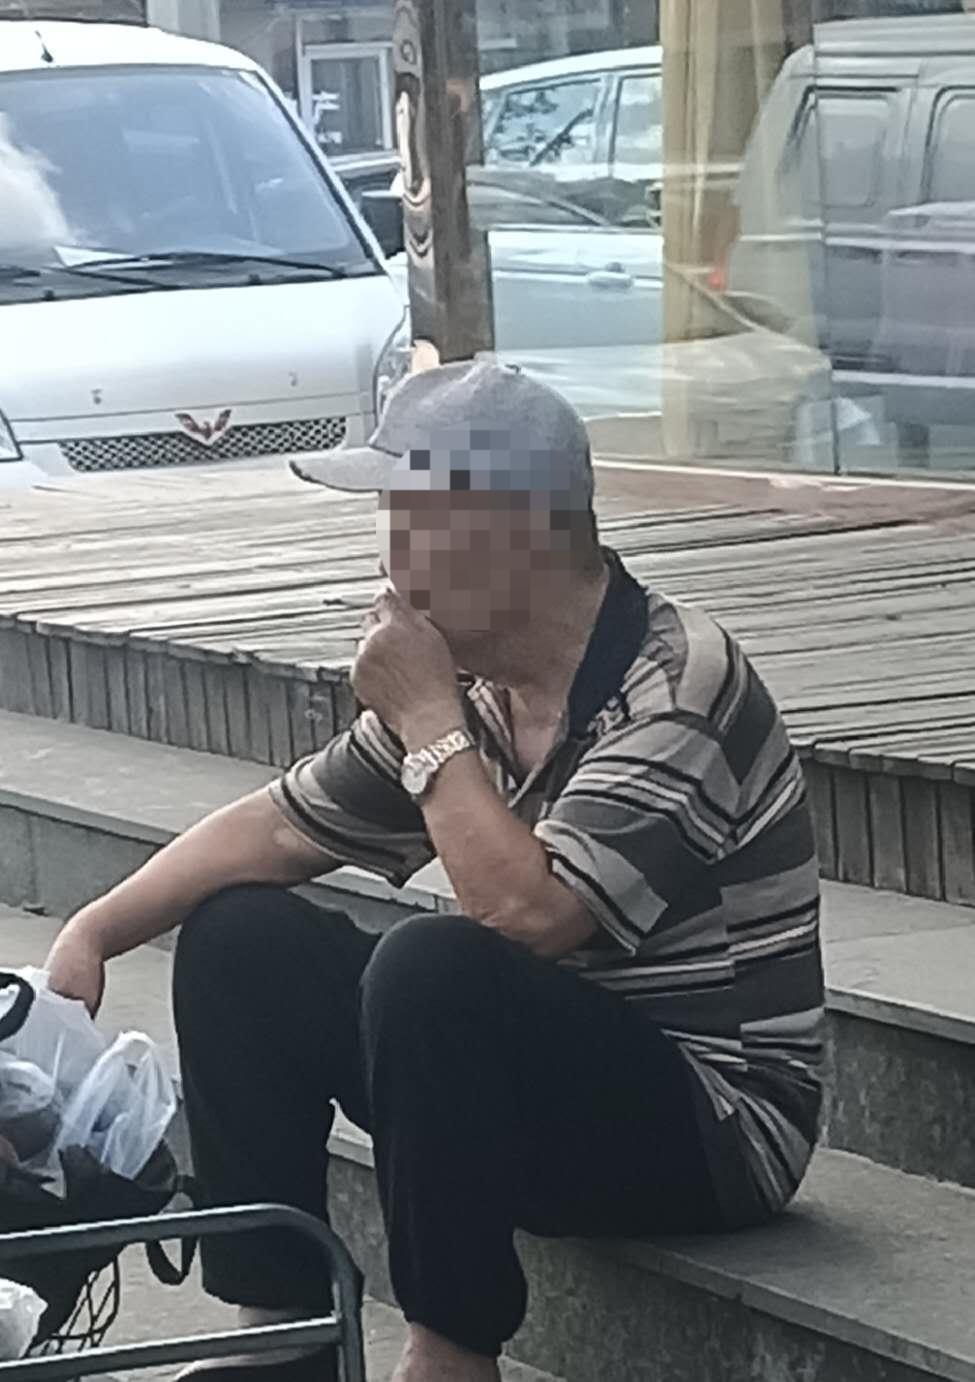smoke: (318, 593, 383, 616)
